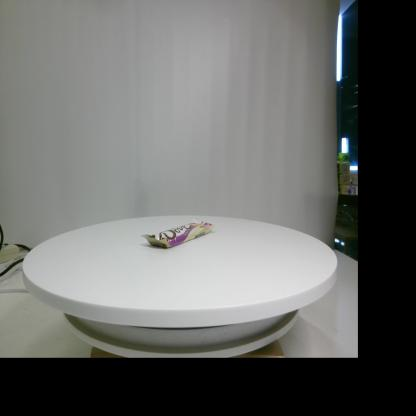Chocolate: (141, 218, 215, 249)
